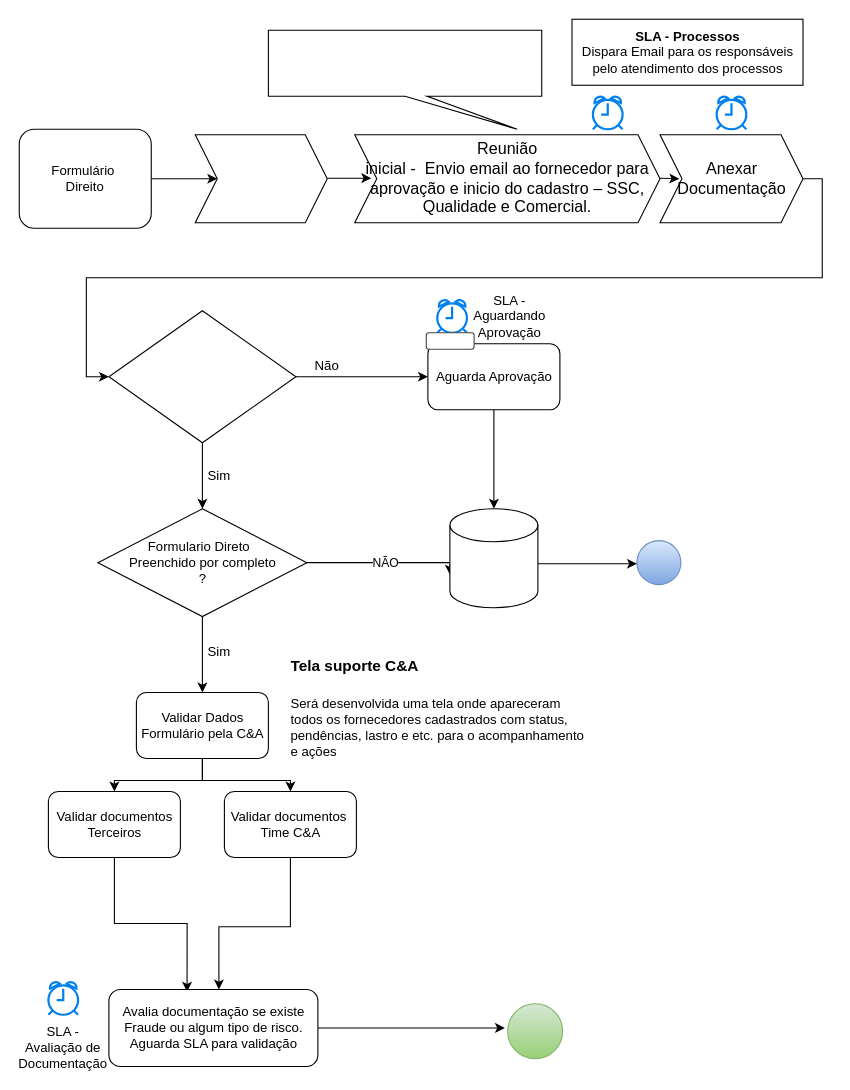
The diagram is 850 pixels wide and 1090 high, and some of its shapes have lost their labels. The shapes that lost their labels are listed below. From the top down, each one's centre as x and y in pixels, then its label:
the point at 404,79: Reunião como Fornecedor Vistoria no Local
the point at 260,178: Aprovação do Sourcing ou Comercial
the point at 449,340: Default text
the point at 202,376: Aprovado Processo de Vistoria?
the point at 493,558: Salvar Dados para próxima ação
